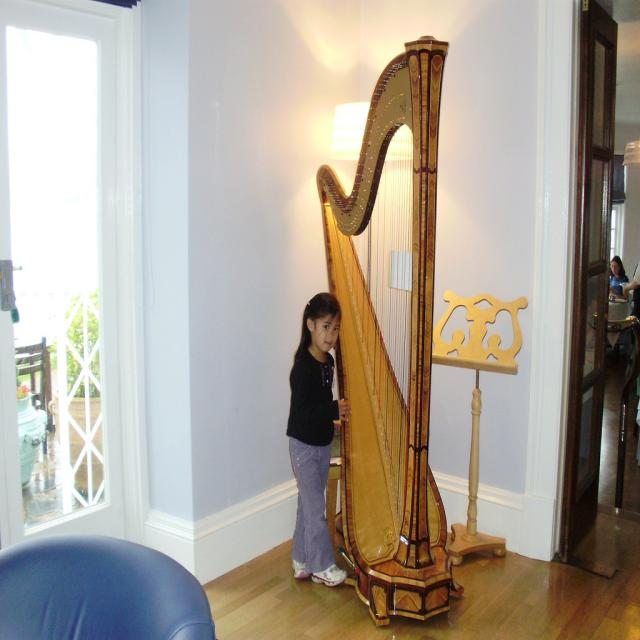harp: (315, 33, 463, 622)
